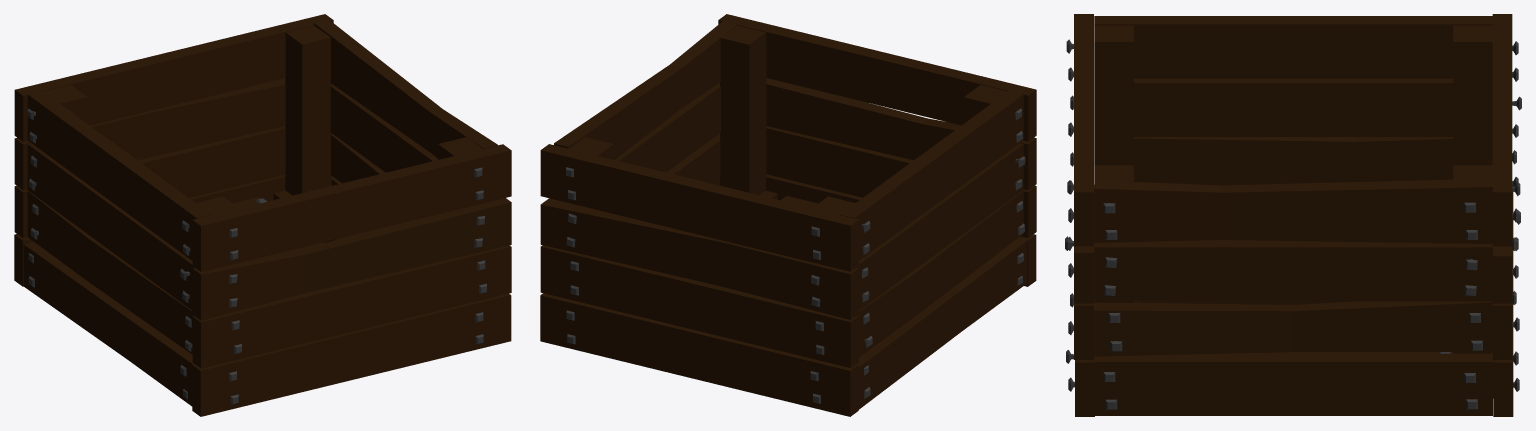
Rendered from WoodenCrate.glb.
3 views of the same model, side by side, from view 1: azimuth 30°, elevation 25°; view 2: azimuth 150°, elevation 25°; view 3: azimuth 270°, elevation 25° (orthographic). The views are drawn at different scales.
Visible parts, largest first — view 1: SouthPlanks; view 2: SouthPlanks; view 3: SouthPlanks.
Boxes of the visible parts, box(x1,y1,x2,y2) form: SouthPlanks: box(14, 14, 511, 416); SouthPlanks: box(540, 14, 1036, 416); SouthPlanks: box(1065, 14, 1521, 416).
Bounding box in the file's own units: 0.8688 × 0.5031 × 0.9175.
